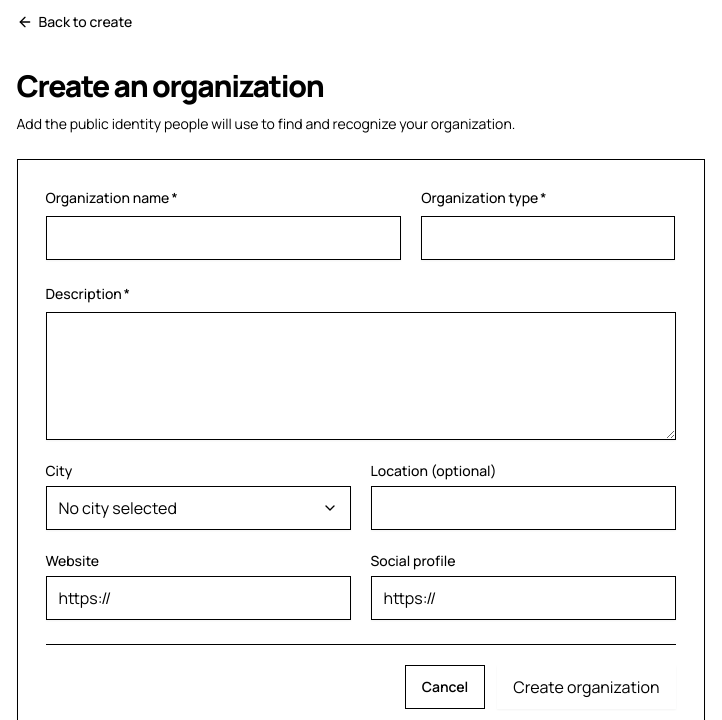
Test: OrganizationCreatePage › keeps the form visible and shows a clear error when creation fails
The width and height of the screenshot is (722, 720).
Type "Wasl Students" into the field labelled "Organization name".
click(223, 238); type("Wasl Students")  # box [46, 216, 401, 260]
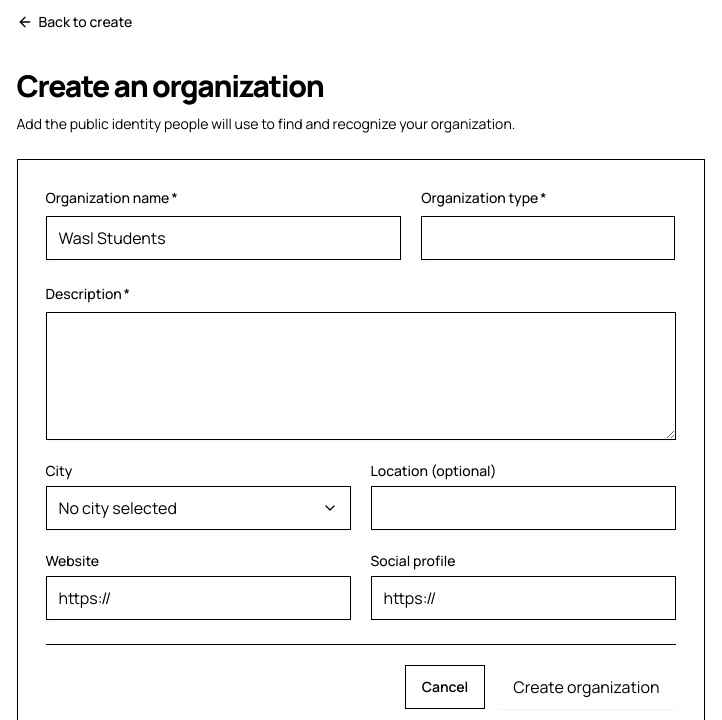
Type "Student activities in Ankara." into the text box labelled "Description".
click(360, 376); type("Student activities in Ankara.")  # box [46, 312, 676, 440]
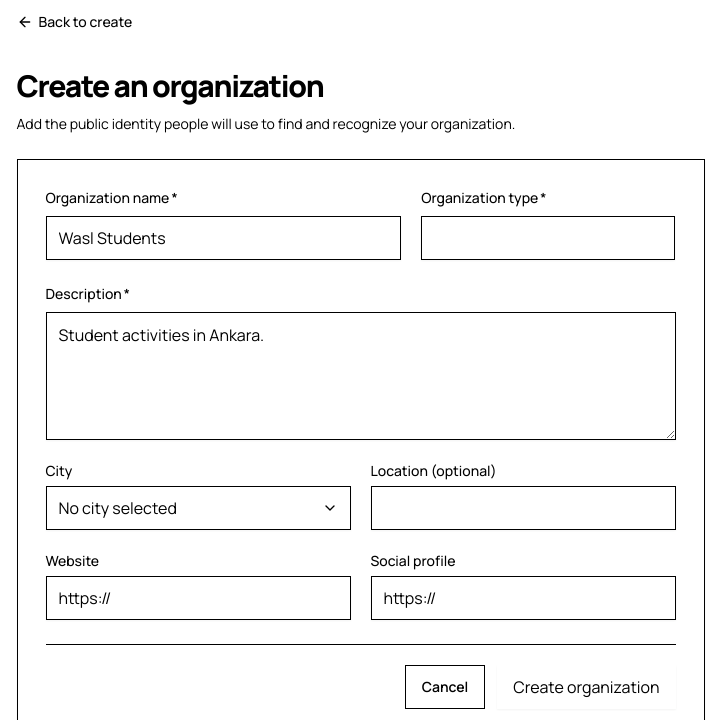
Type "Student association" into the field labelled "Organization type".
click(548, 238); type("Student association")  # box [421, 216, 676, 260]
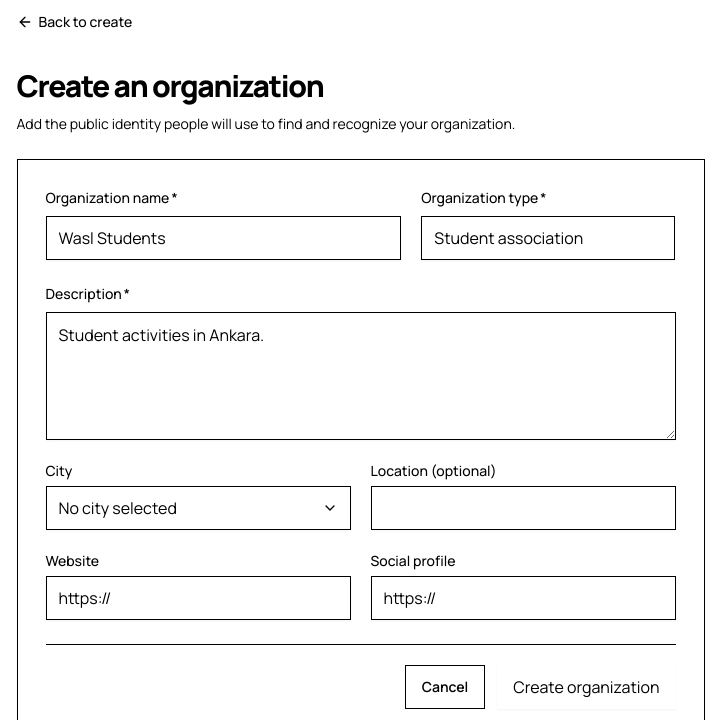
Click the button "Create organization".
click(586, 687)  # box [497, 665, 676, 709]
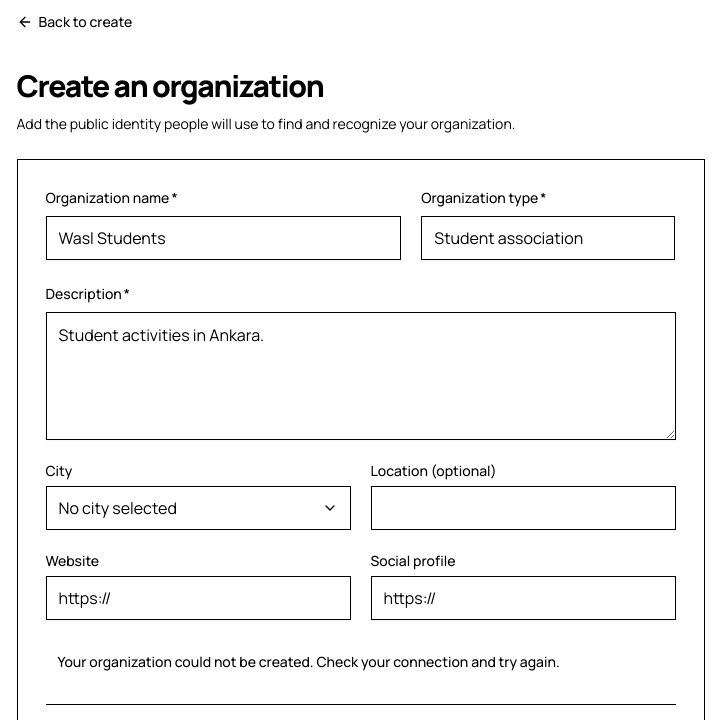
Expected: the heading "Create an organization" is shown, [16, 65, 323, 106]
Expected: the message reads "Your organization could not be created. Check your connection and try again.", [58, 652, 560, 671]
